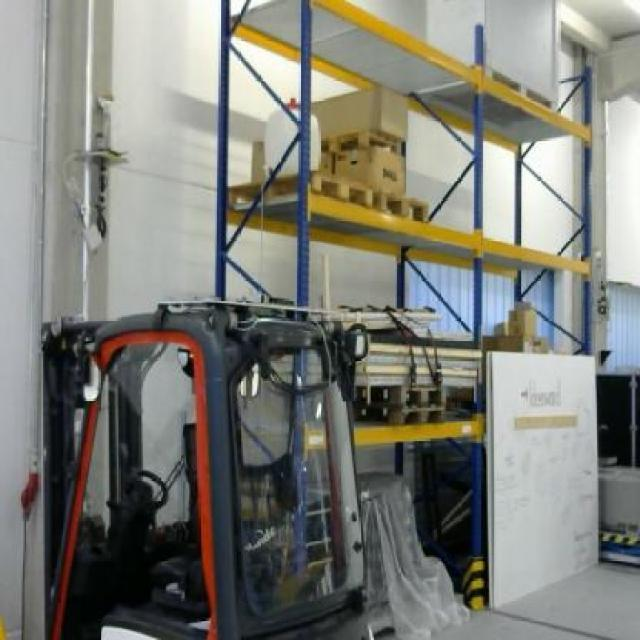box: (316, 84, 409, 142), (333, 144, 404, 186), (506, 306, 536, 334)
